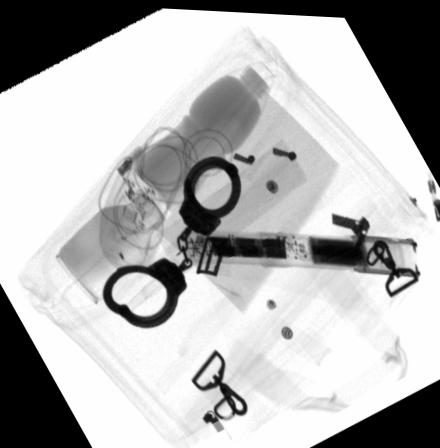Baton: (180, 227, 421, 274)
HandCuffs: (101, 151, 243, 328)
